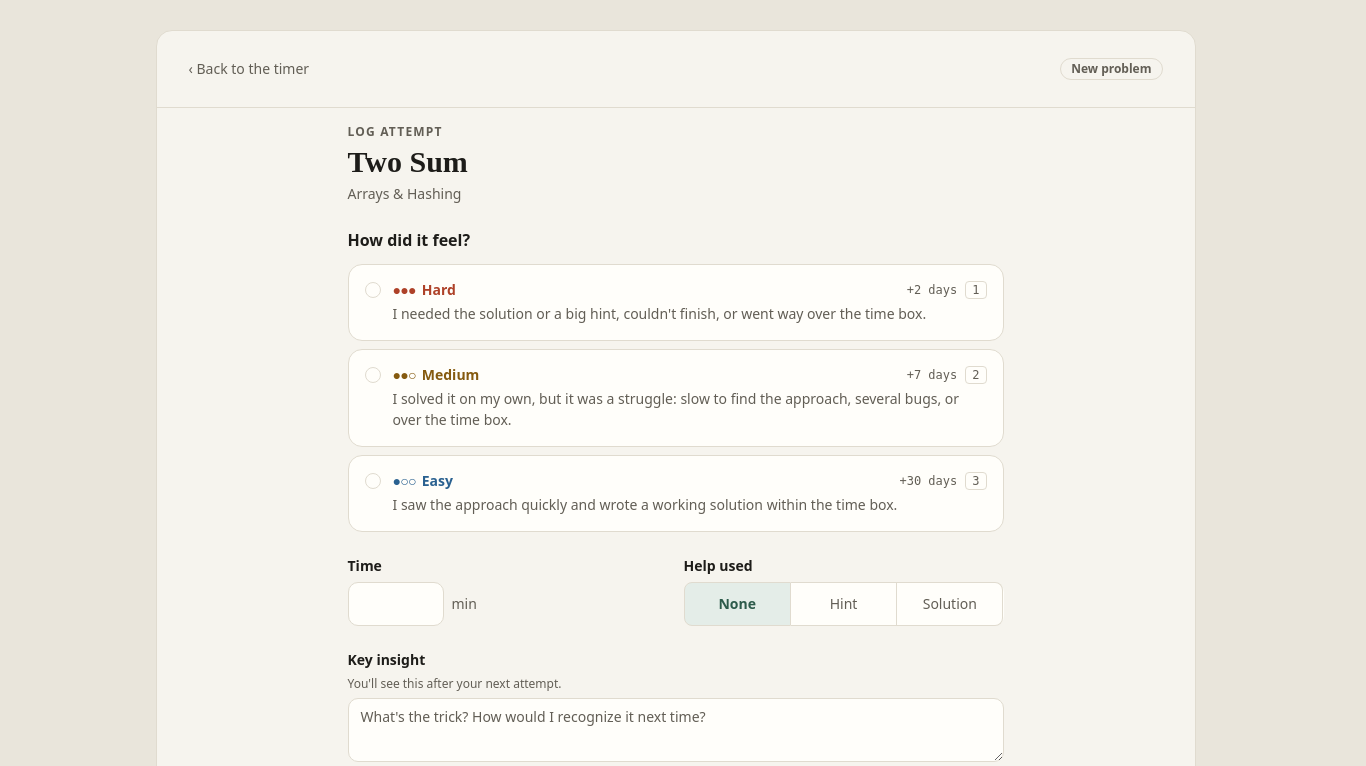
Test: LogPage saving › undoes a save by marking the attempt deleted and reopening the form
Click the radio button named "Hard" next to "Hard" at (372,290), box [364, 282, 380, 298]
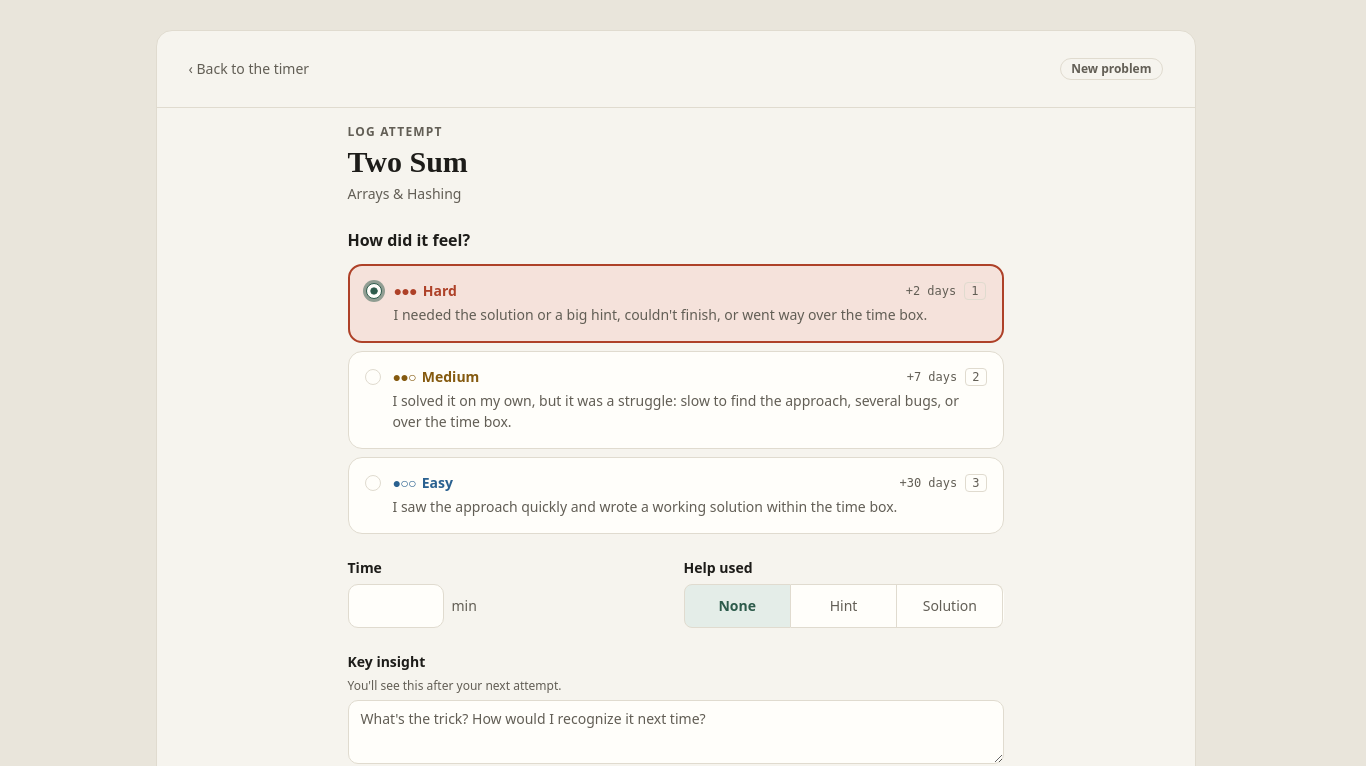
Type "30" into the number field labelled "Time" at (396,606), box [348, 584, 444, 628]
(page scrolled)
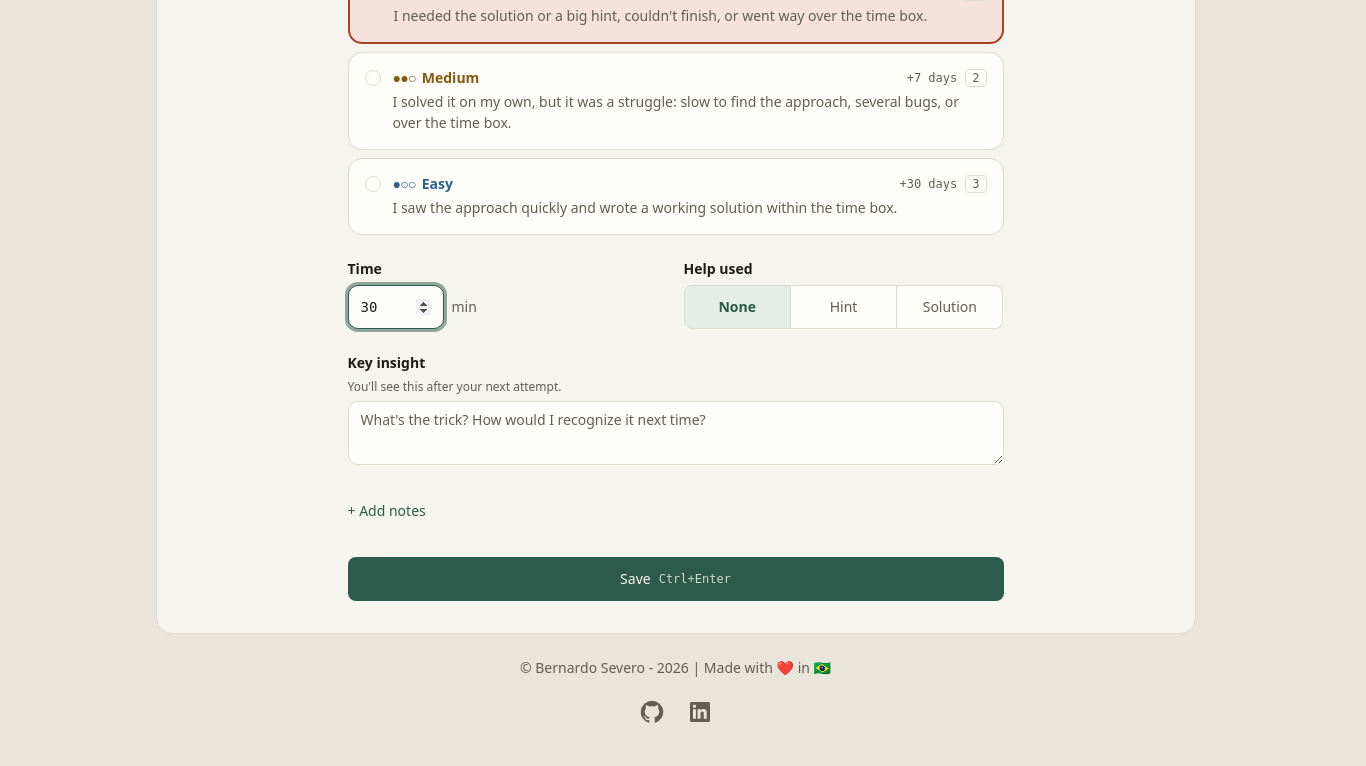
Click the button "Save Ctrl+Enter" at (676,579), box [348, 557, 1004, 601]
(page scrolled)
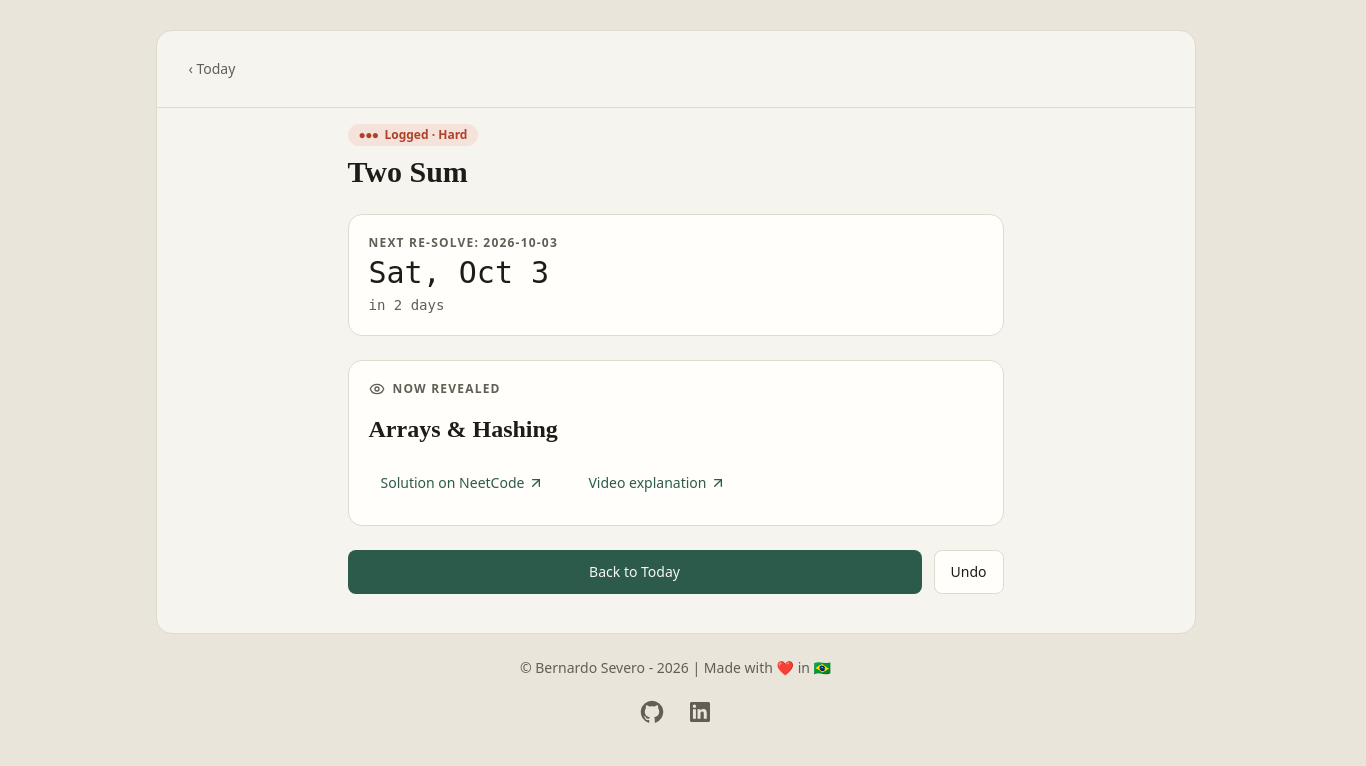
Click the button "Undo" at (968,572), box [934, 550, 1004, 594]
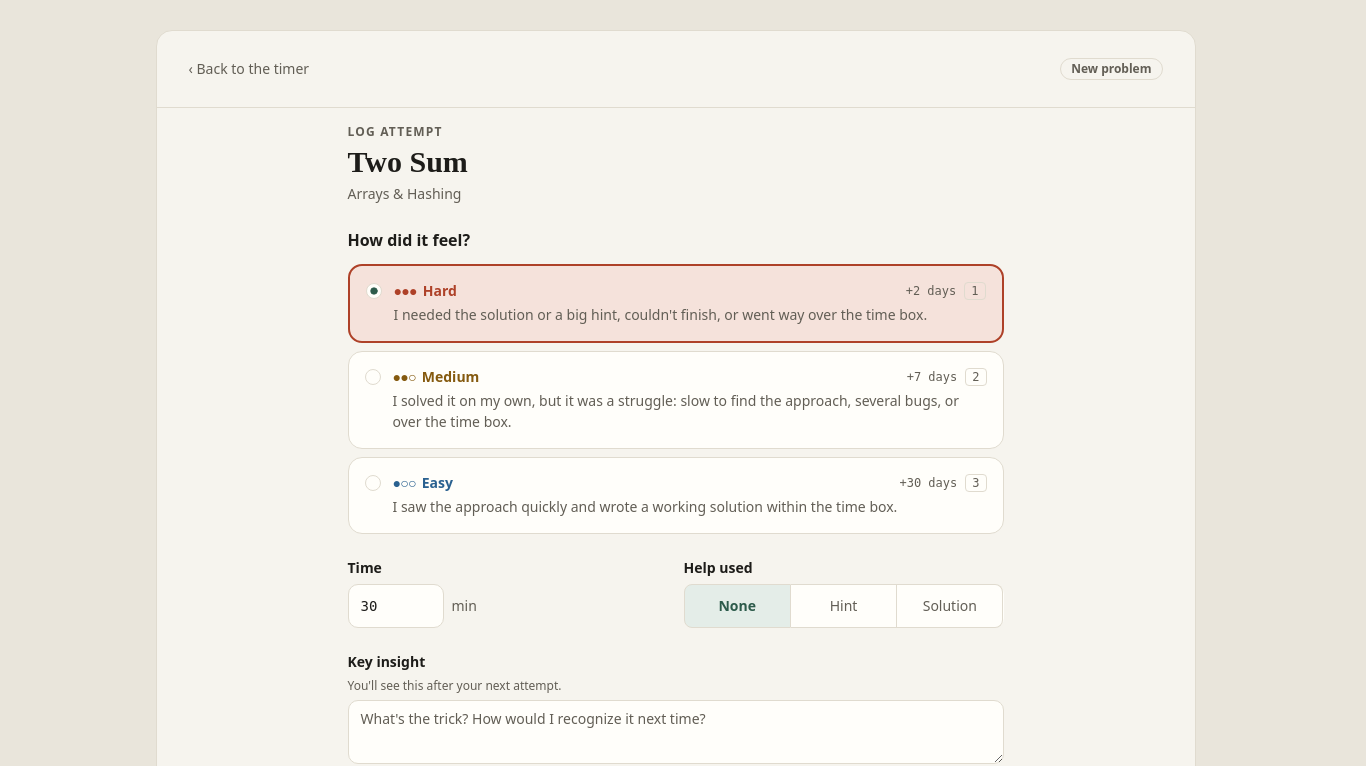
Now the number field labelled "Time" holds "30", box [348, 584, 444, 628]
